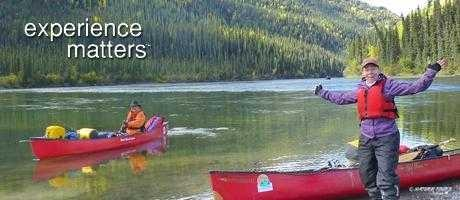kayak: (208, 144, 459, 199), (28, 111, 169, 163)
